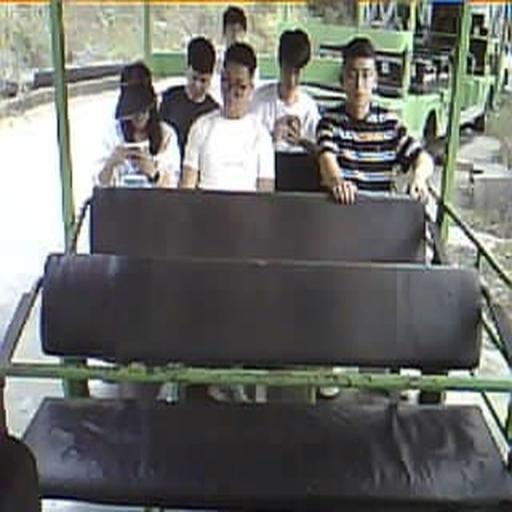persona: (314, 35, 436, 206), (181, 41, 276, 193), (92, 82, 182, 189), (248, 27, 322, 154), (158, 36, 223, 157), (215, 5, 261, 109)
